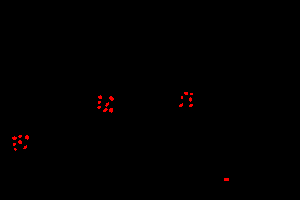Target: (109, 96, 114, 101), (105, 102, 109, 107), (103, 108, 108, 112), (109, 108, 113, 113), (25, 135, 29, 140), (12, 136, 17, 140), (98, 95, 102, 99), (179, 103, 183, 107), (18, 140, 22, 144), (23, 145, 27, 149), (189, 97, 192, 102), (224, 178, 229, 181), (184, 92, 188, 95), (189, 104, 193, 107), (97, 106, 101, 109), (18, 135, 22, 138), (98, 101, 101, 104), (13, 143, 16, 146), (14, 148, 17, 151), (190, 93, 193, 95), (181, 96, 183, 99)
